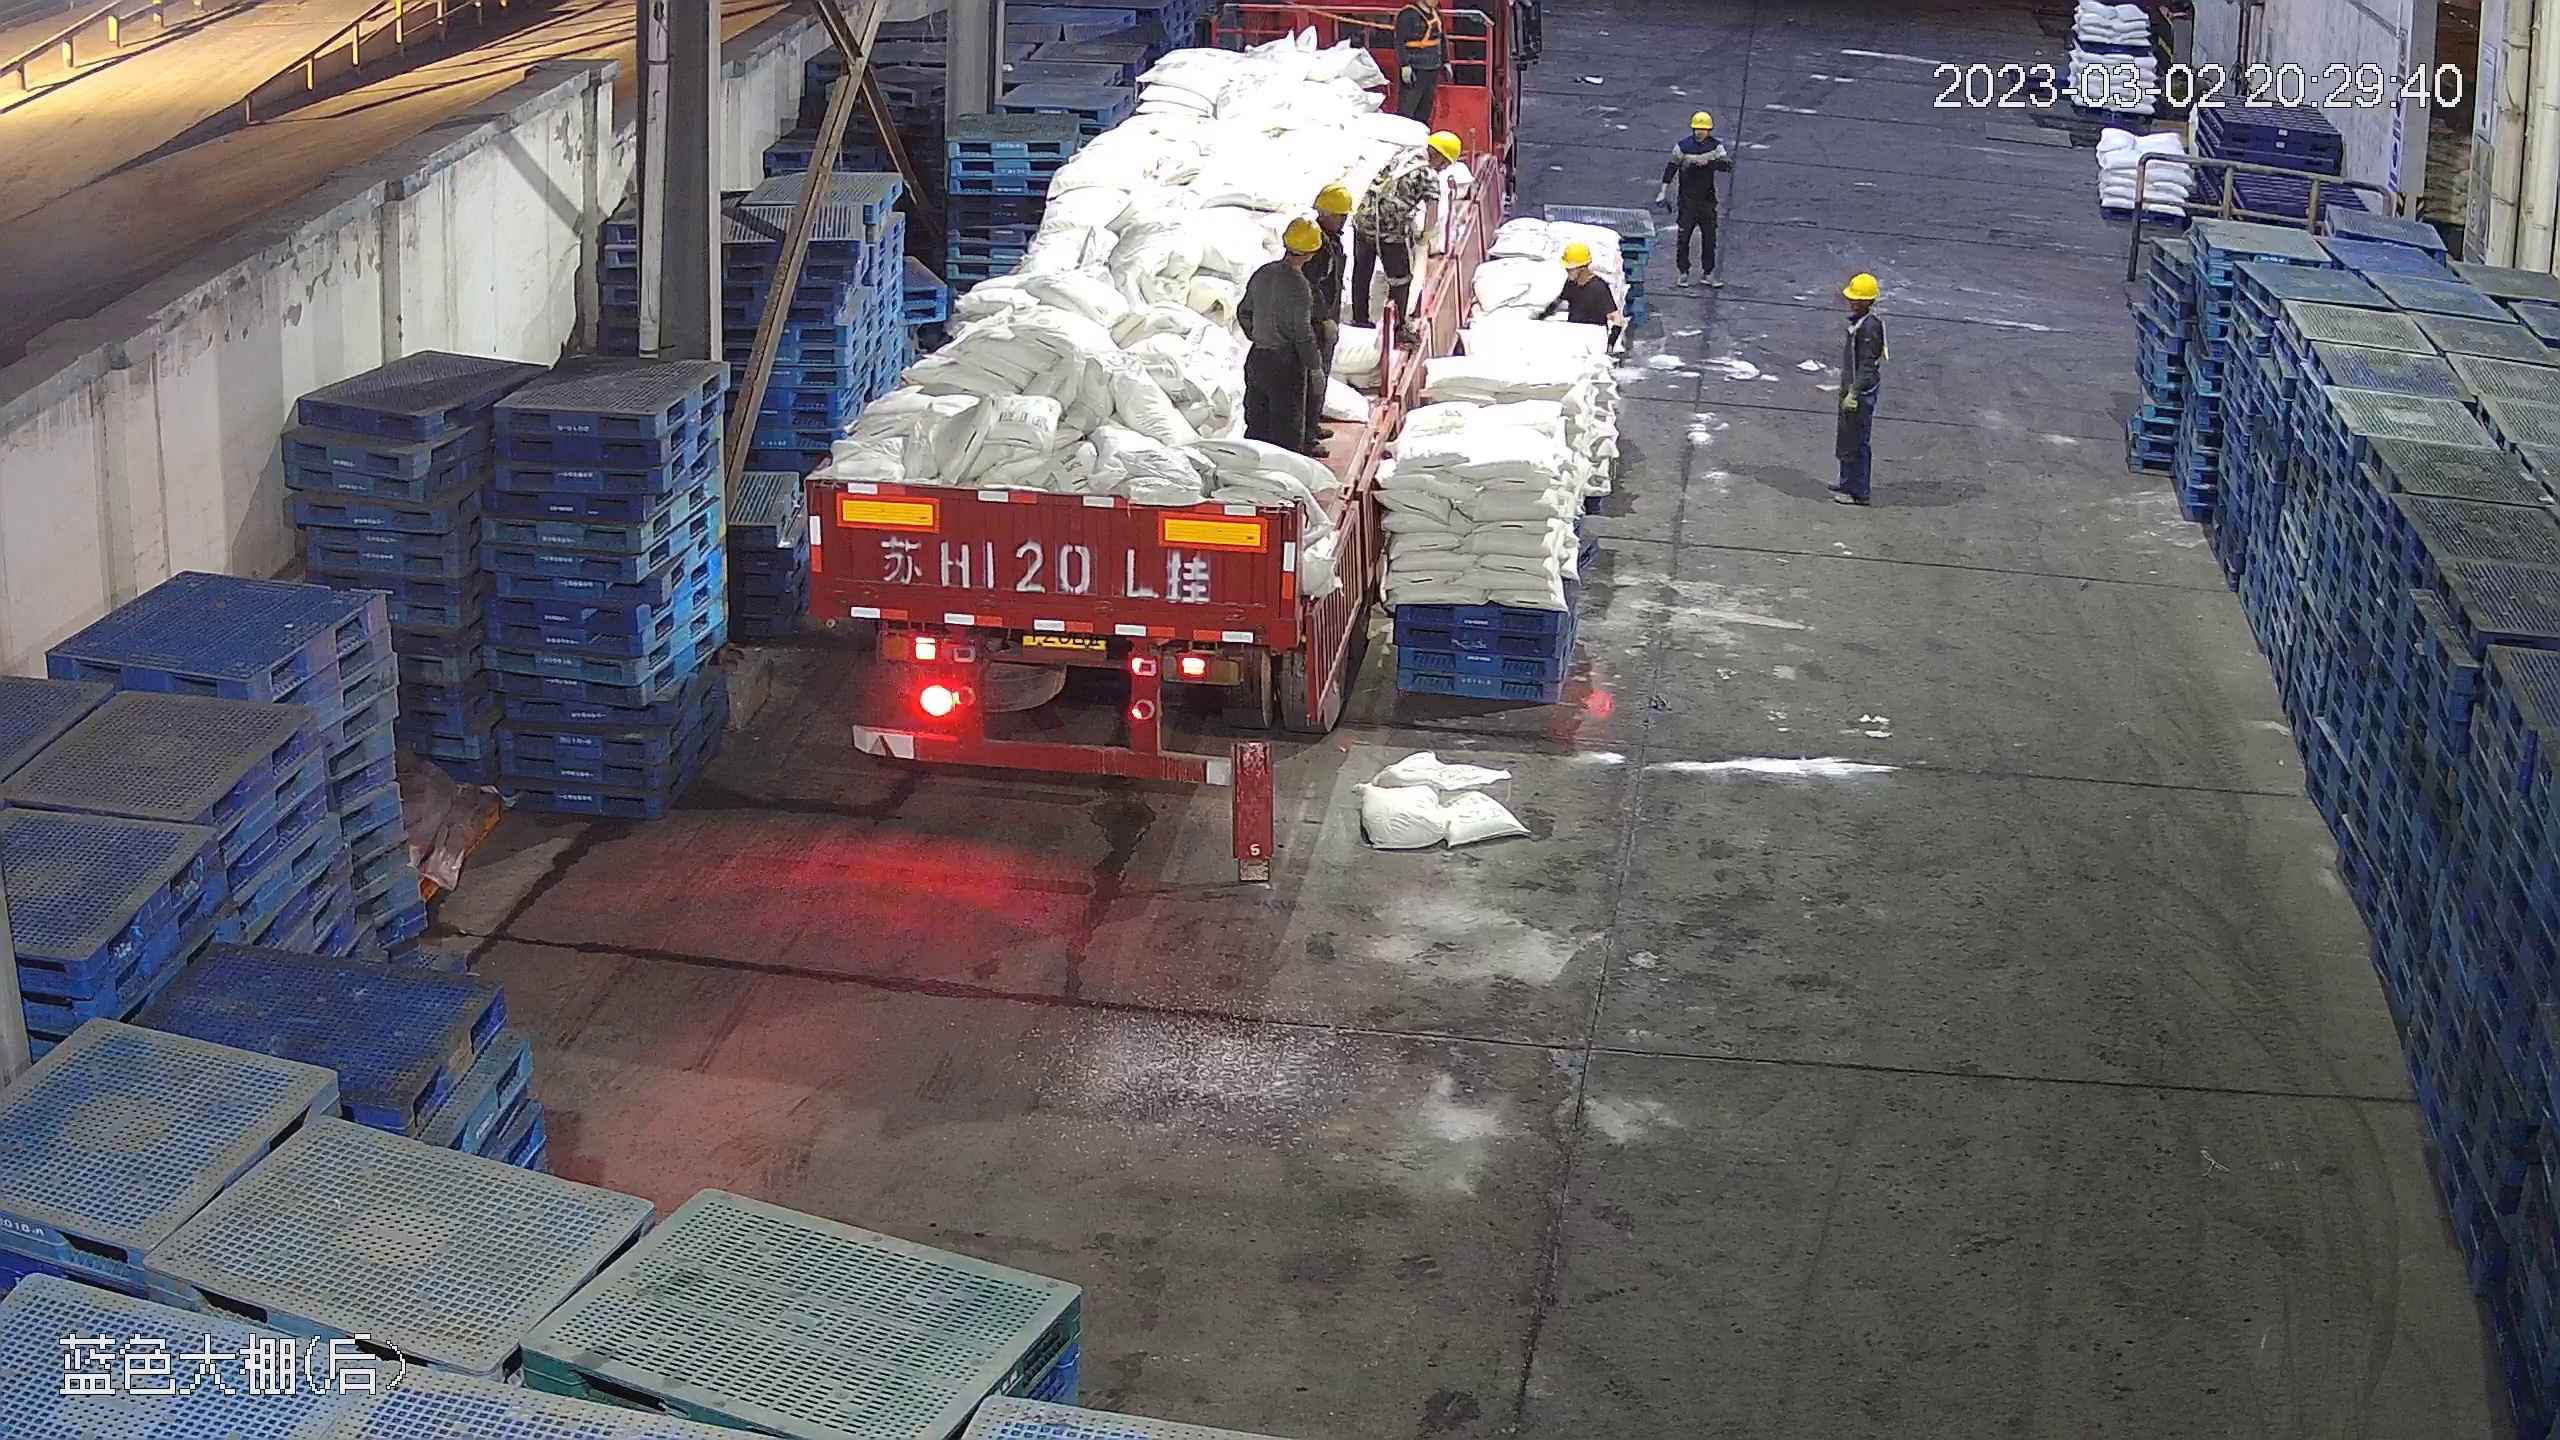belt: (1255, 235, 1326, 315), (1371, 149, 1425, 209), (1387, 2, 1448, 49), (1850, 309, 1889, 366)
head: (1246, 213, 1328, 297), (1380, 130, 1463, 201), (1545, 242, 1620, 317), (1838, 269, 1887, 346), (1671, 108, 1727, 162)
helmet: (1277, 215, 1328, 257), (1313, 178, 1355, 216), (1430, 129, 1465, 164), (1841, 271, 1880, 299), (1560, 241, 1595, 266), (1686, 108, 1717, 130)
people: (1342, 130, 1458, 357), (1232, 209, 1329, 455), (1825, 268, 1886, 511), (1665, 104, 1734, 284)
truck: (795, 13, 1463, 769)
